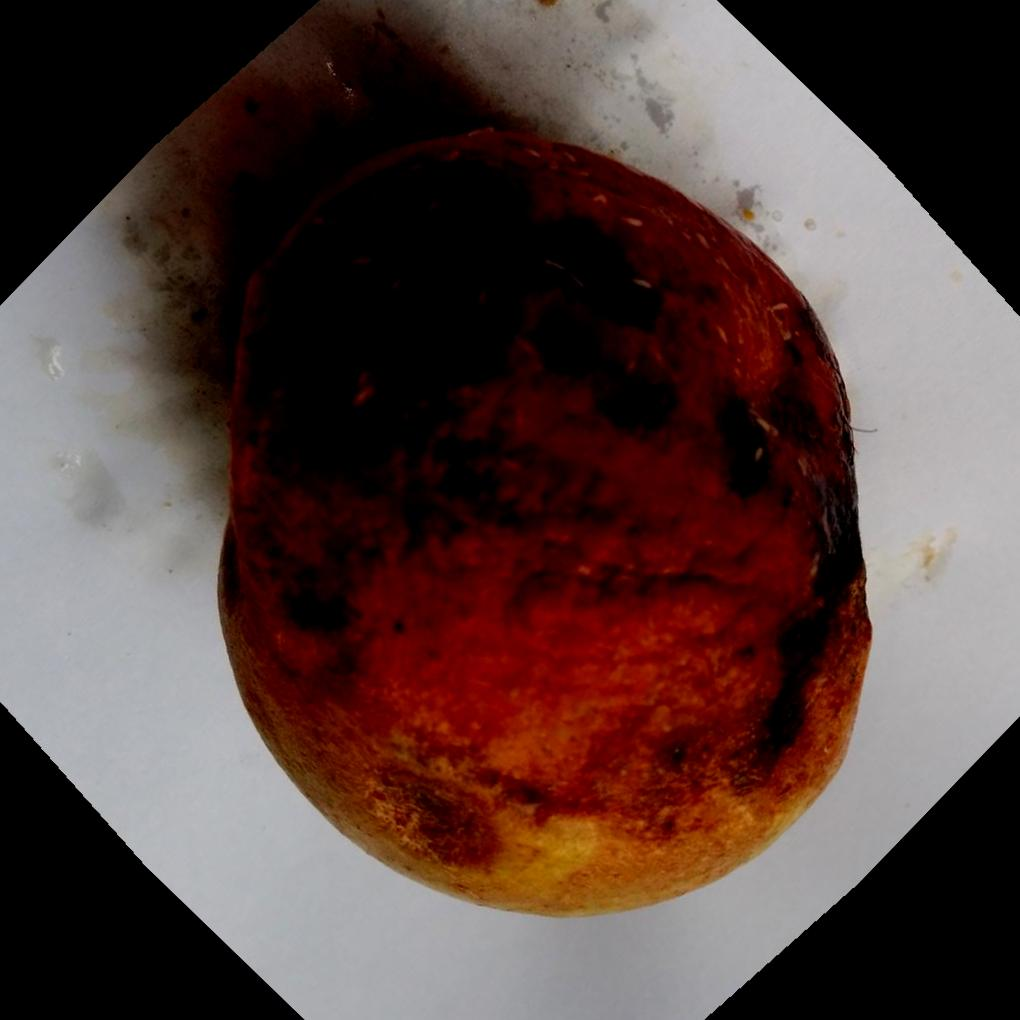FreshOrange: (215, 122, 872, 918)
